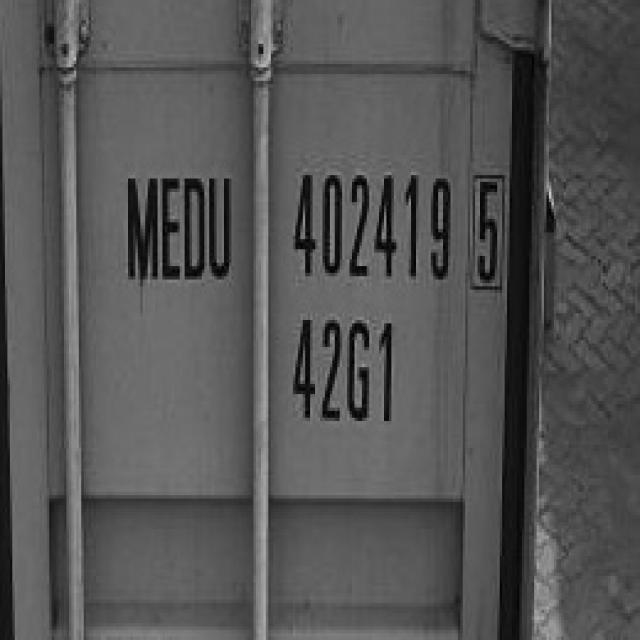dv: (462, 160, 510, 302)
owner: (120, 162, 236, 292)
serial: (290, 166, 458, 292)
size: (288, 310, 402, 445)
